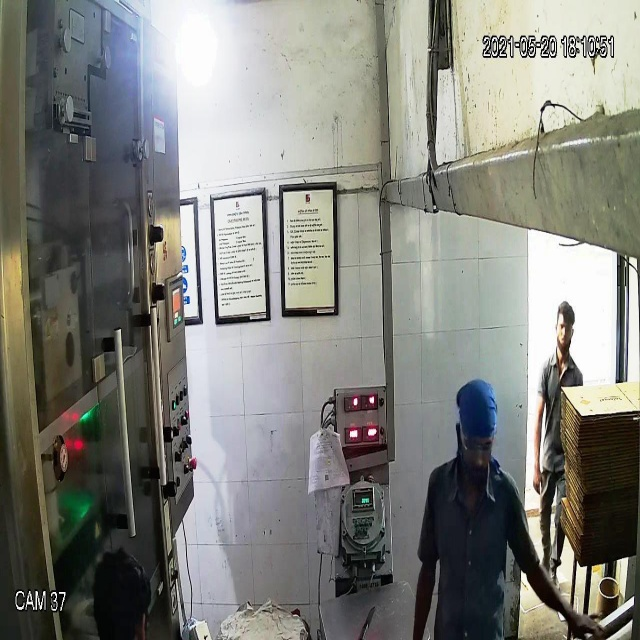Gafas: (453, 418, 498, 460)
Sin_gafas: (552, 319, 576, 340)
